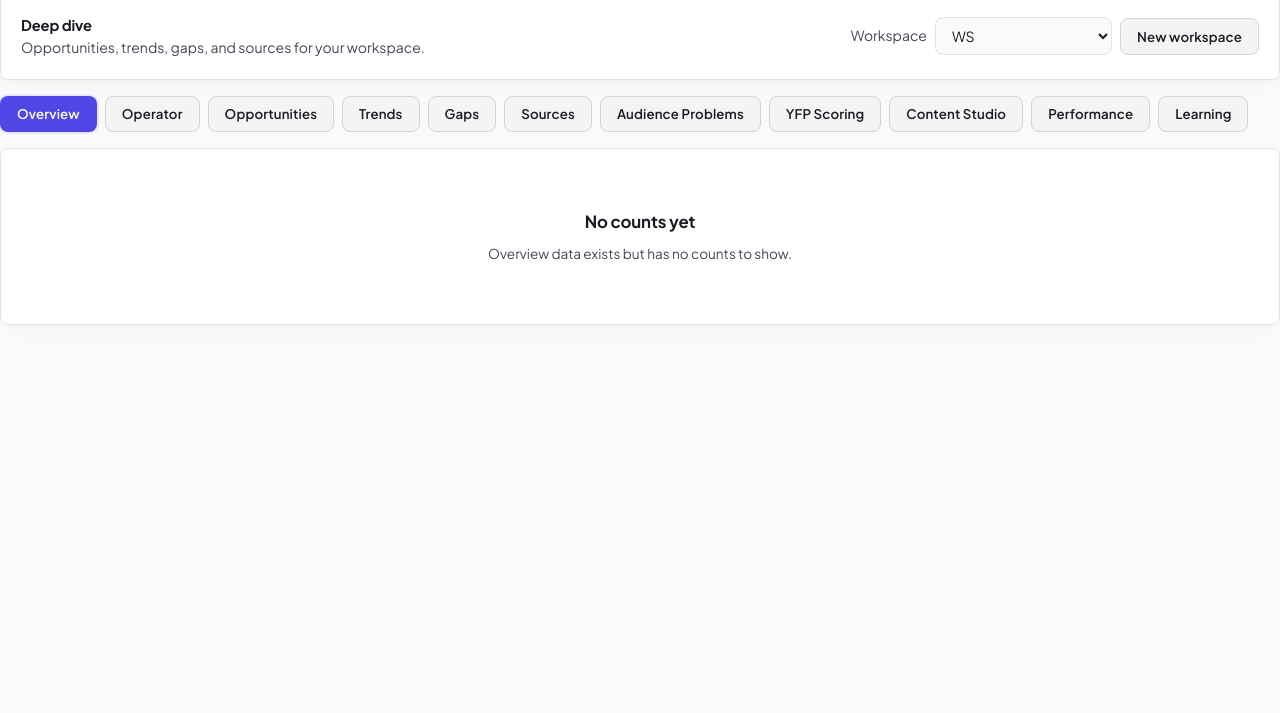
Test case: BrainPage Sources & Connections (redesigned UX) › keeps internal connector paths behind Technical status expanders only
Click the tab "Sources". click: (548, 114)
box: [504,96,592,132]
(page scrolled)
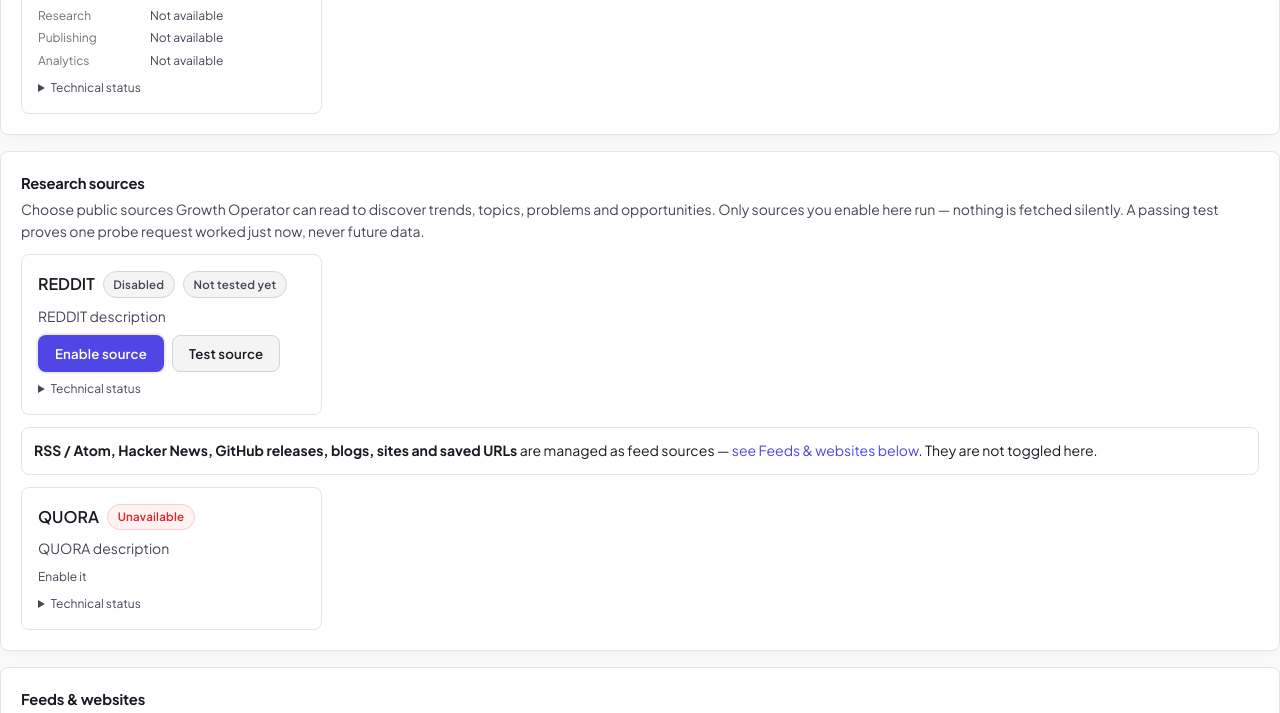
Now the button "Enable source" is shown, box [38,335,164,372]
